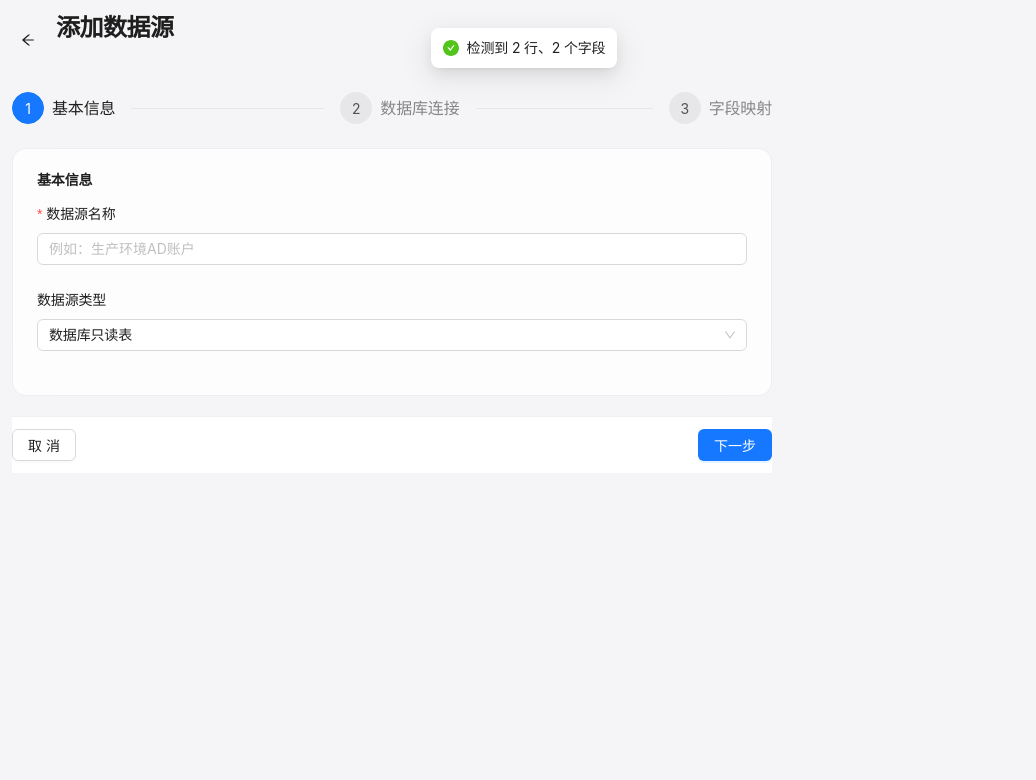
DataSourceForm CSV flow › validates each step before moving forward
Click the button "下一步" at (735, 445), box [698,429,772,461]
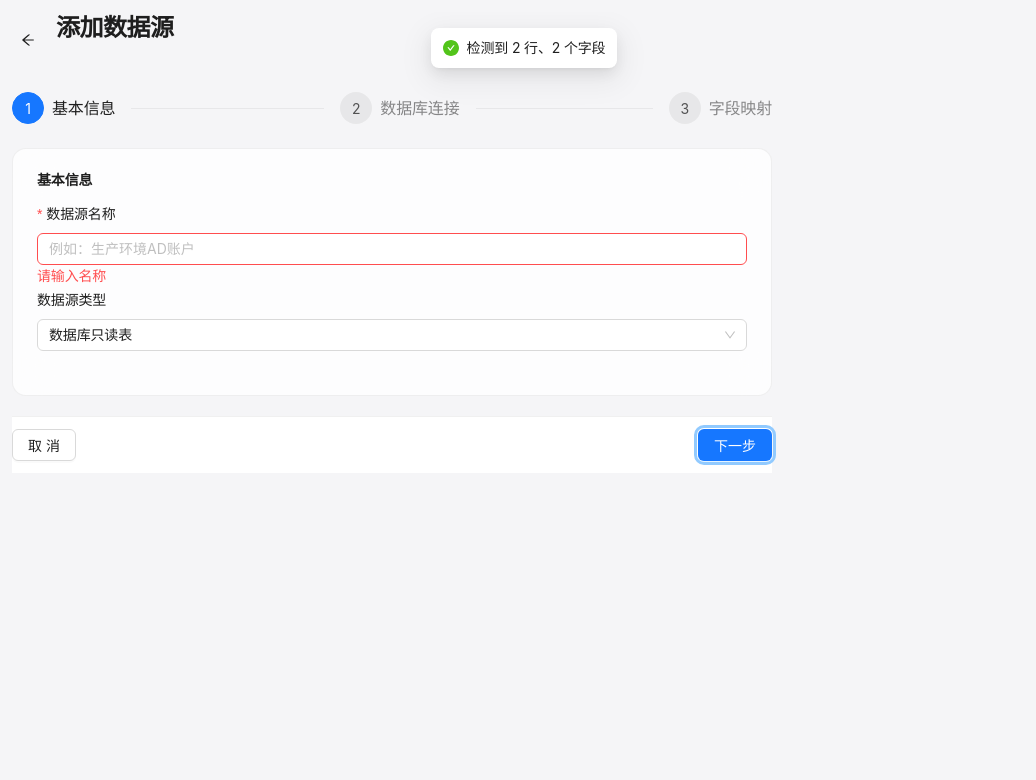
expect the text "请输入名称" is shown: met, box [37,267,106,284]
Type "生产账户库" into the field labelled "数据源名称" at (392, 249), box [37,233,747,265]
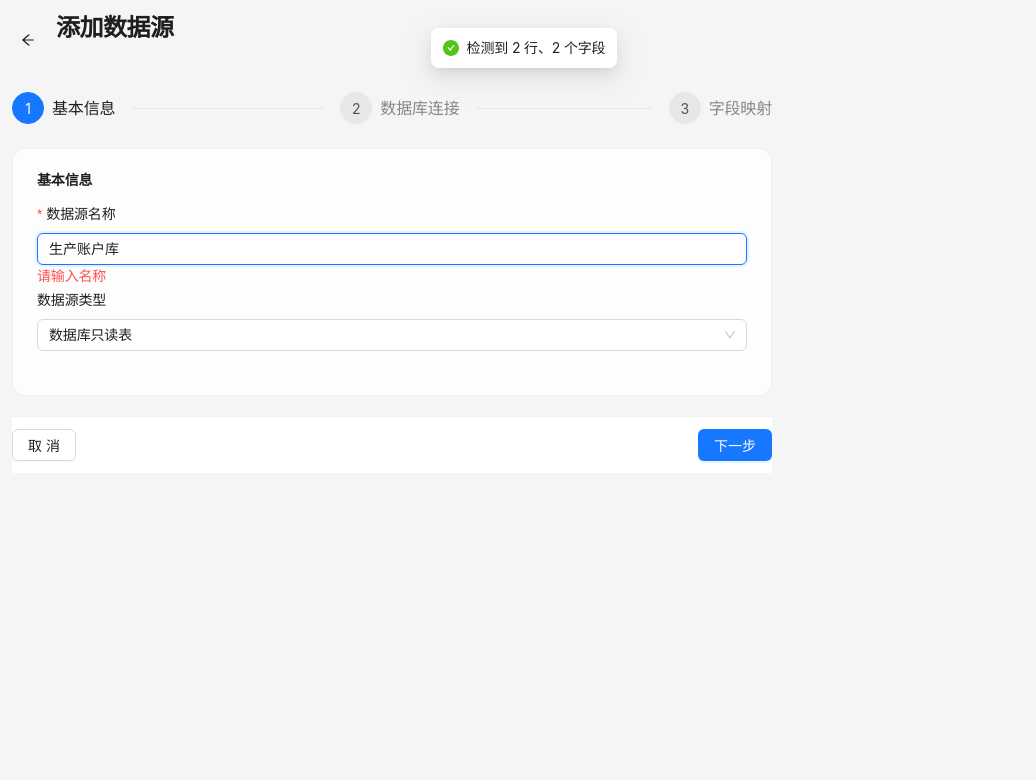
Click the button "下一步" at (735, 445), box [698,429,772,461]
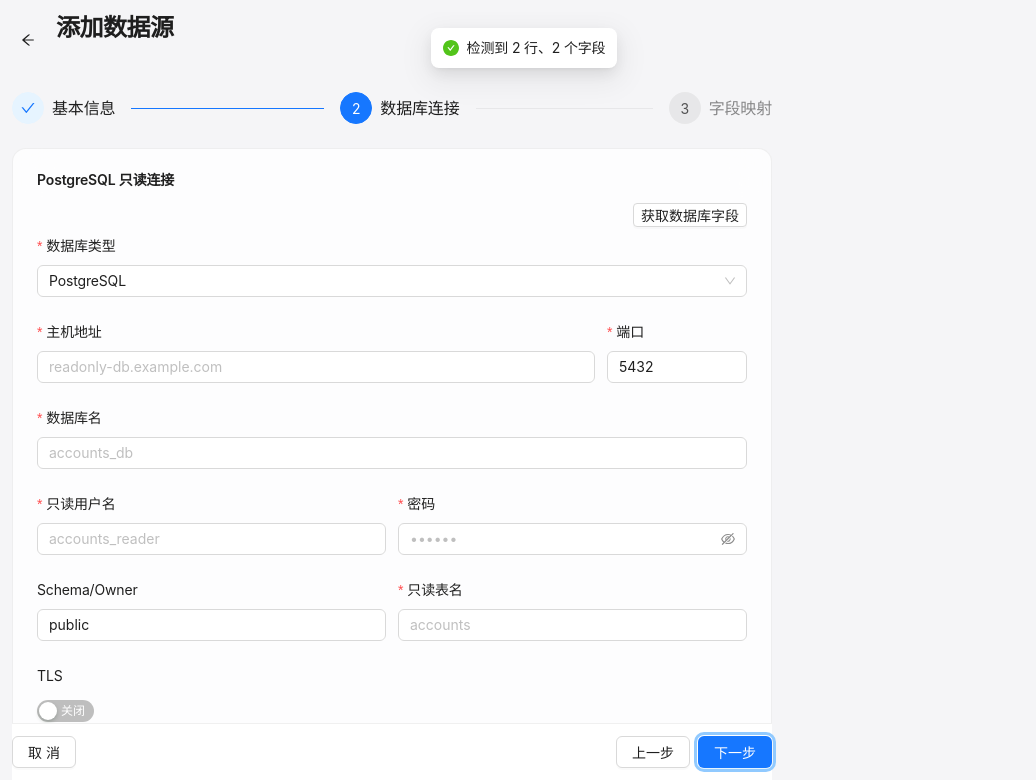
expect the field labelled "主机地址" is shown: met, box [37,351,595,383]
Click the button "下一步" at (735, 752), box [698,736,772,768]
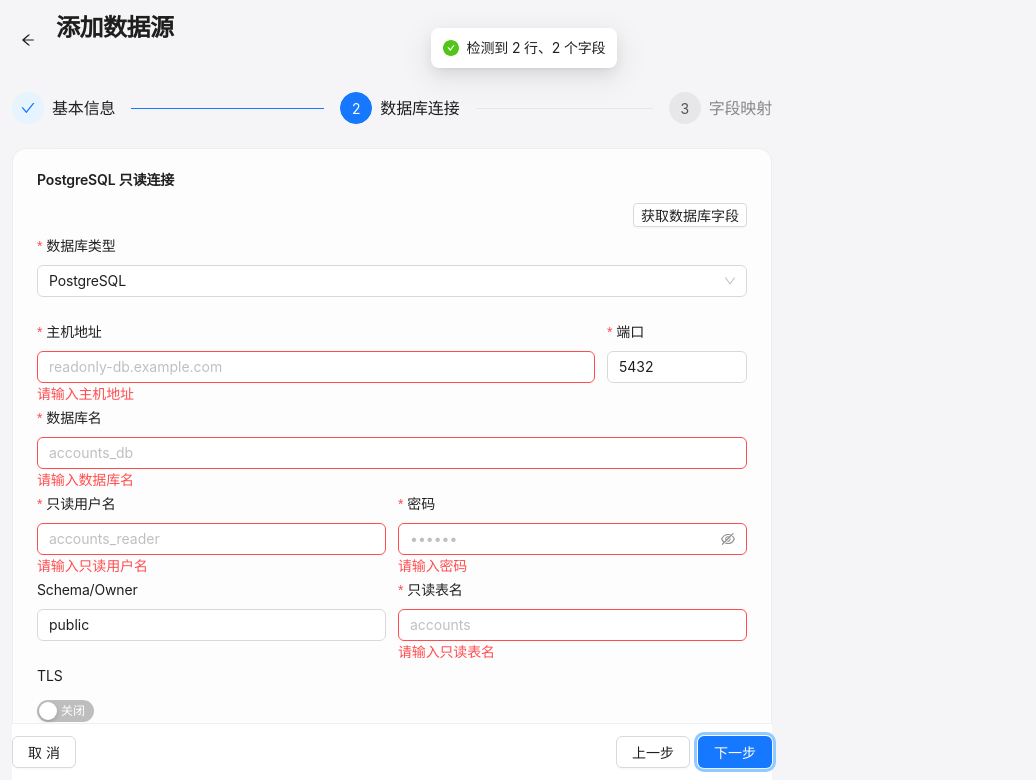
expect the text "请输入主机地址" is shown: met, box [37,385,134,402]
